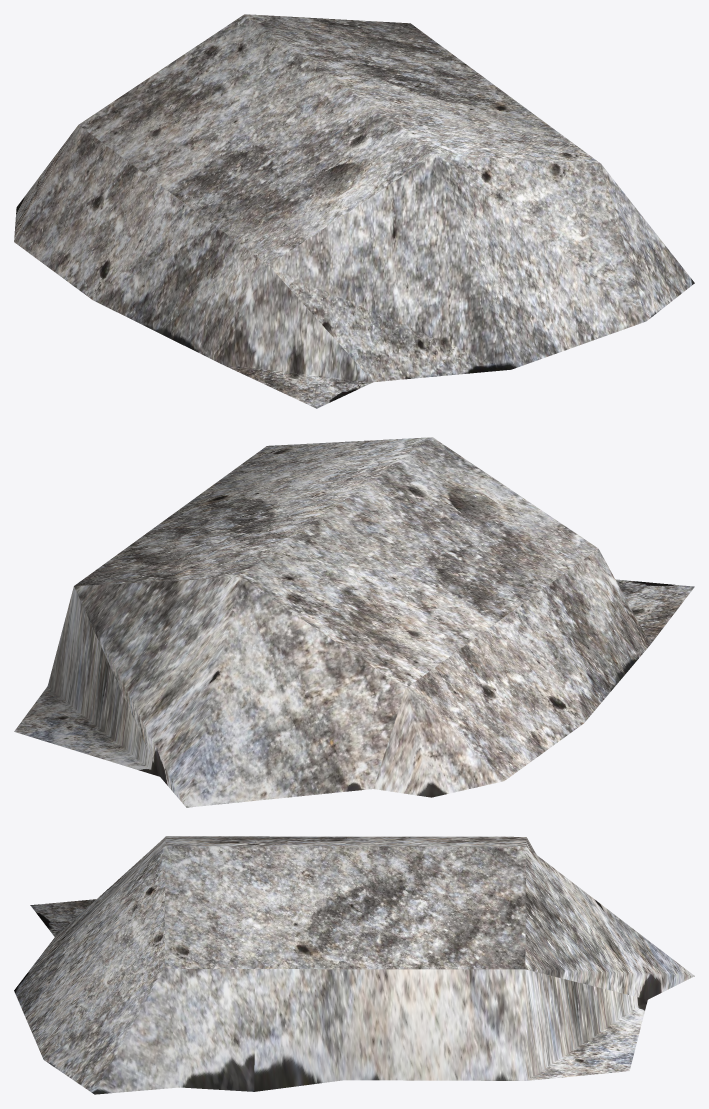
File: gros caillou1.fbx
The picture shows the model from 3 angles, top to bottom: view 1: azimuth 30°, elevation 25°; view 2: azimuth 150°, elevation 25°; view 3: azimuth 270°, elevation 25°; orthographic projection. The views are drawn at different scales.
Parts seen in each view (by area): view 1: Grand caillou1; view 2: Grand caillou1; view 3: Grand caillou1.
Part boxes in pixels (<box>): Grand caillou1: <box>14,14,694,408</box>; Grand caillou1: <box>14,437,694,807</box>; Grand caillou1: <box>14,836,694,1094</box>.
Bounding box in the file's own units: 41.76 × 13.39 × 55.76.
